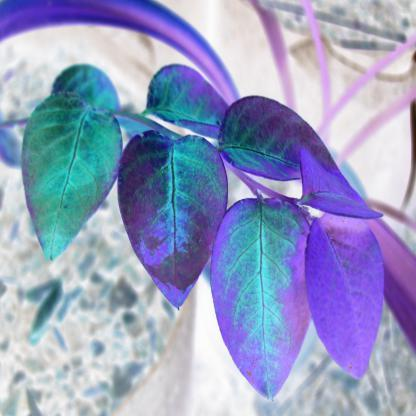Blueberry leaf: (119, 119, 229, 330), (208, 192, 318, 402), (19, 88, 124, 286), (306, 204, 387, 387), (214, 84, 358, 186), (142, 54, 235, 142)
